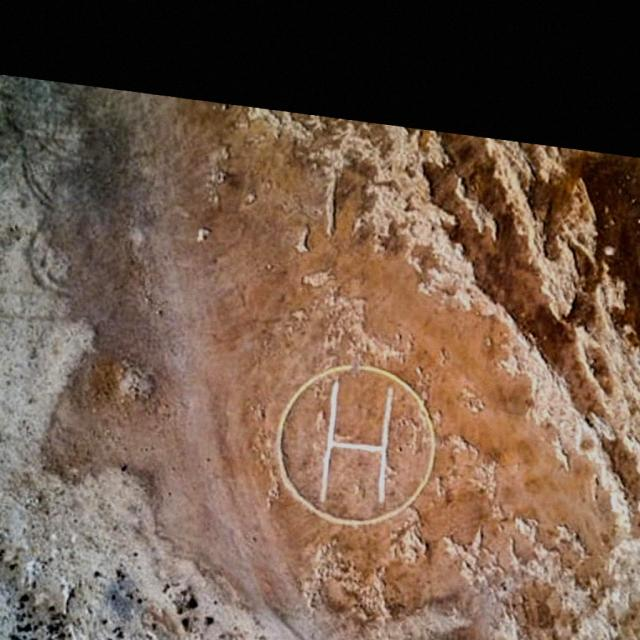helipad: (269, 360, 439, 530)
